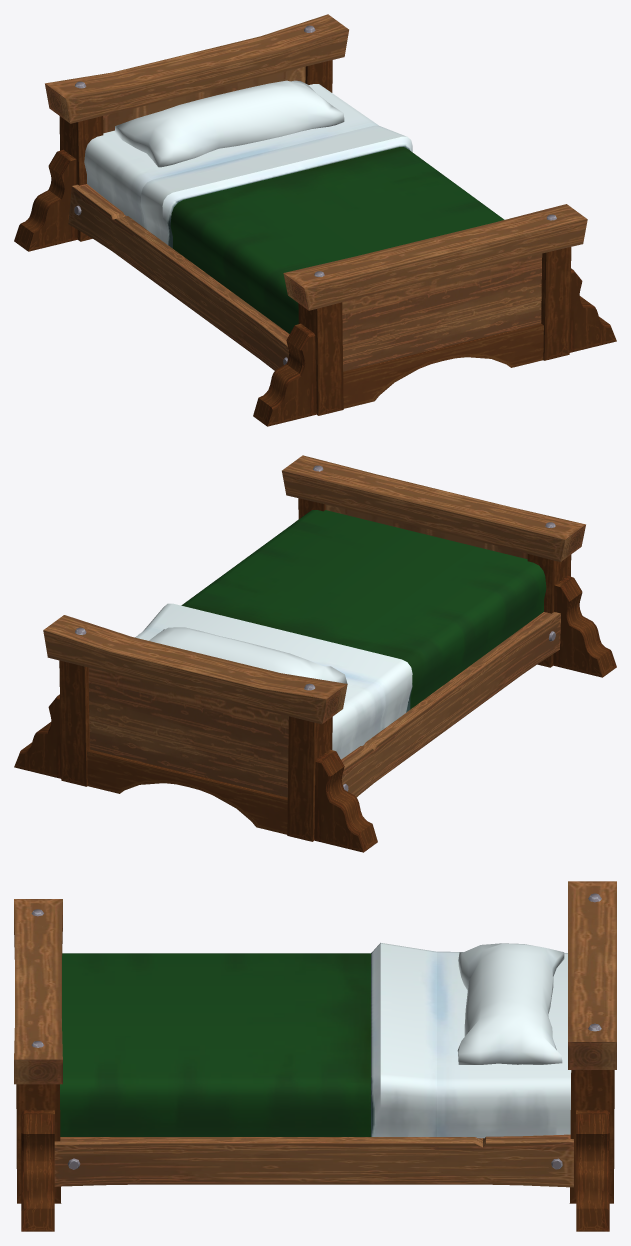
The model's file is Bed_Twin2.gltf.
3 renders of one model, top to bottom at view 1: azimuth 30°, elevation 25°; view 2: azimuth 150°, elevation 25°; view 3: azimuth 270°, elevation 25°, orthographic. The views are drawn at different scales.
Parts seen in each view (by area): view 1: Bed_Twin2; view 2: Bed_Twin2; view 3: Bed_Twin2.
Part boxes in pixels (x1,y1,x2,y2): Bed_Twin2: (14,14,616,426); Bed_Twin2: (14,455,616,852); Bed_Twin2: (14,881,616,1231).
Size of the model in its own units: 1.88 by 0.7596 by 2.41.
3 materials, 3 textured.
